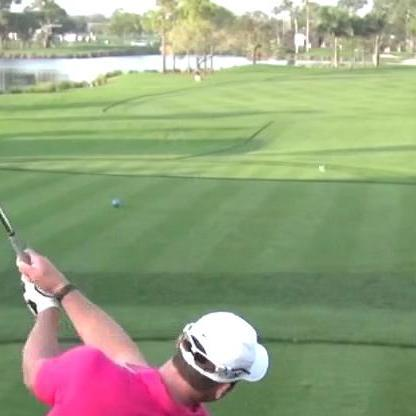golfball: (315, 163, 324, 171)
